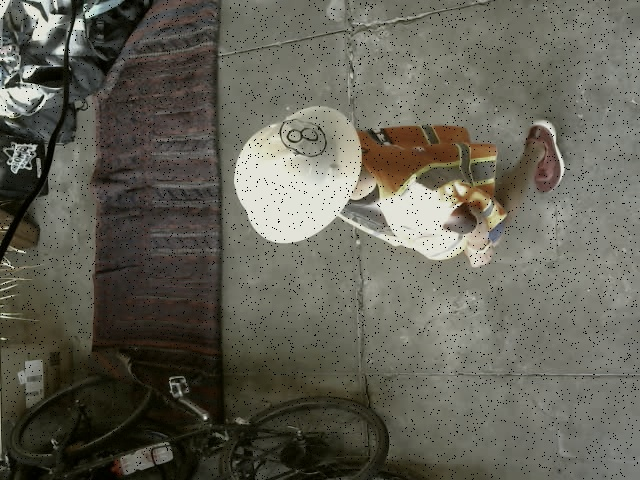eight: (281, 119, 325, 156)
